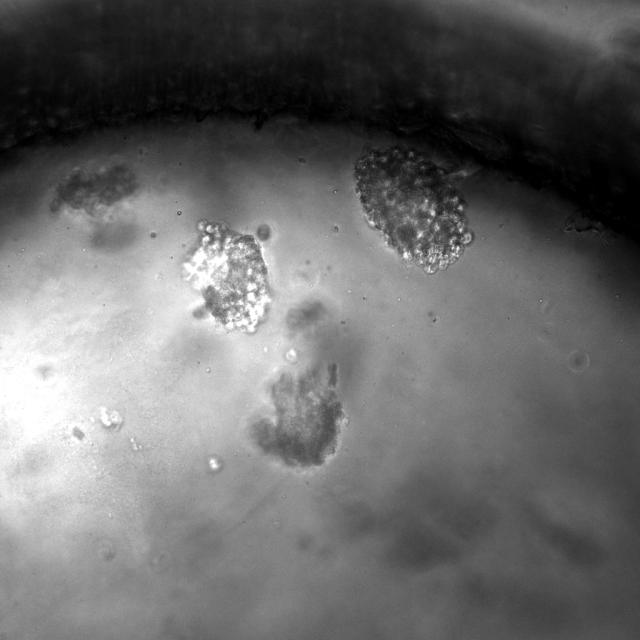organoid: (354, 147, 473, 274), (182, 219, 271, 331), (252, 363, 344, 467), (50, 163, 138, 215)
